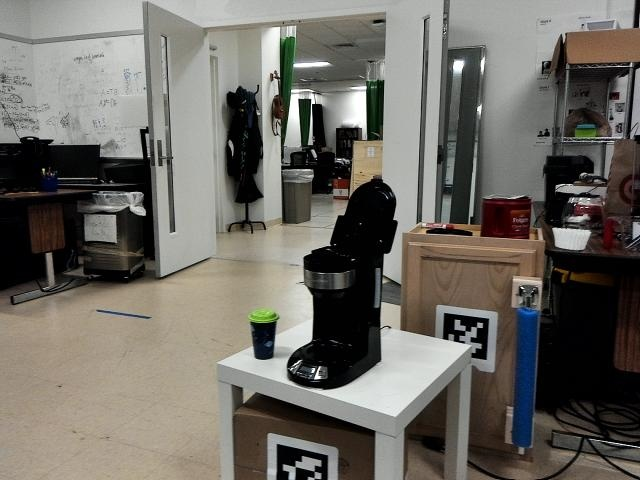noodle_handle: (511, 298, 540, 456)
useless_cup: (245, 307, 280, 362)
